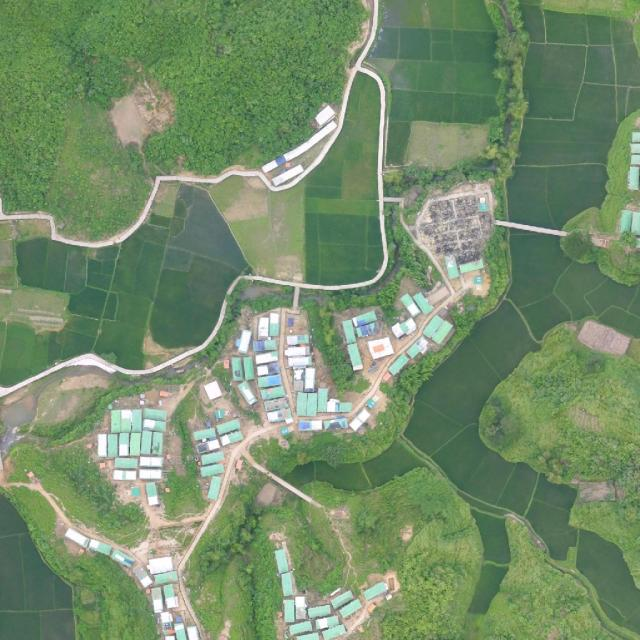agricultural_land: (0, 174, 268, 413), (367, 0, 500, 164), (302, 73, 383, 284), (302, 73, 383, 284), (0, 495, 75, 639), (210, 176, 305, 282), (291, 440, 421, 506), (0, 283, 71, 337), (0, 221, 50, 288), (269, 312, 281, 336)
building: (129, 547, 211, 640), (284, 338, 353, 421), (190, 418, 256, 501), (99, 409, 166, 481), (251, 349, 293, 425), (340, 310, 388, 371), (388, 292, 427, 344), (422, 313, 454, 346), (445, 254, 484, 279), (108, 546, 138, 571), (367, 336, 394, 361), (404, 336, 432, 360), (421, 313, 445, 340), (64, 526, 91, 549), (410, 291, 434, 316), (387, 353, 410, 377), (618, 210, 640, 234), (87, 538, 113, 556), (203, 380, 223, 401), (252, 338, 279, 353), (235, 329, 251, 354), (269, 312, 281, 336), (257, 317, 269, 339), (286, 334, 309, 345), (147, 482, 156, 496)
dryland: (415, 188, 502, 269), (26, 366, 117, 428), (0, 395, 42, 432)
greenland: (463, 303, 640, 588), (257, 460, 496, 640), (261, 346, 474, 508), (484, 519, 620, 639), (185, 481, 284, 640), (383, 156, 497, 198), (220, 566, 223, 569)
metalled_road: (227, 64, 469, 357), (0, 299, 242, 428), (0, 179, 167, 259), (155, 166, 280, 191)
